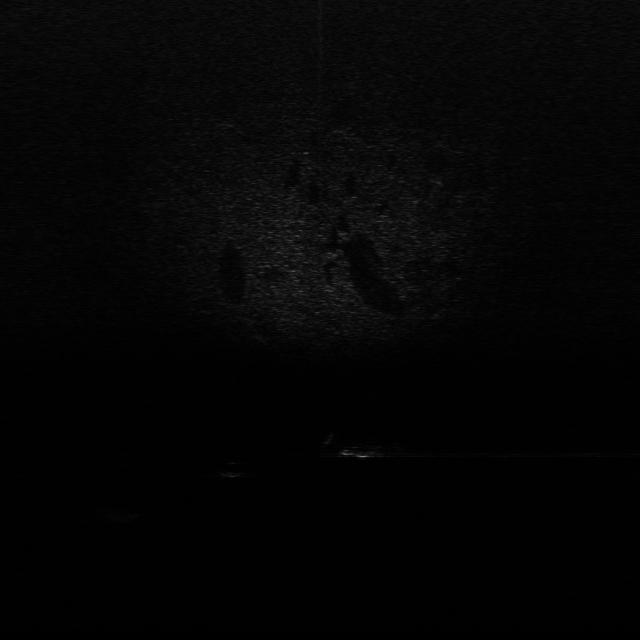ball: (218, 460, 247, 480)
circle cage: (102, 506, 142, 523)
human body: (320, 432, 410, 462)
